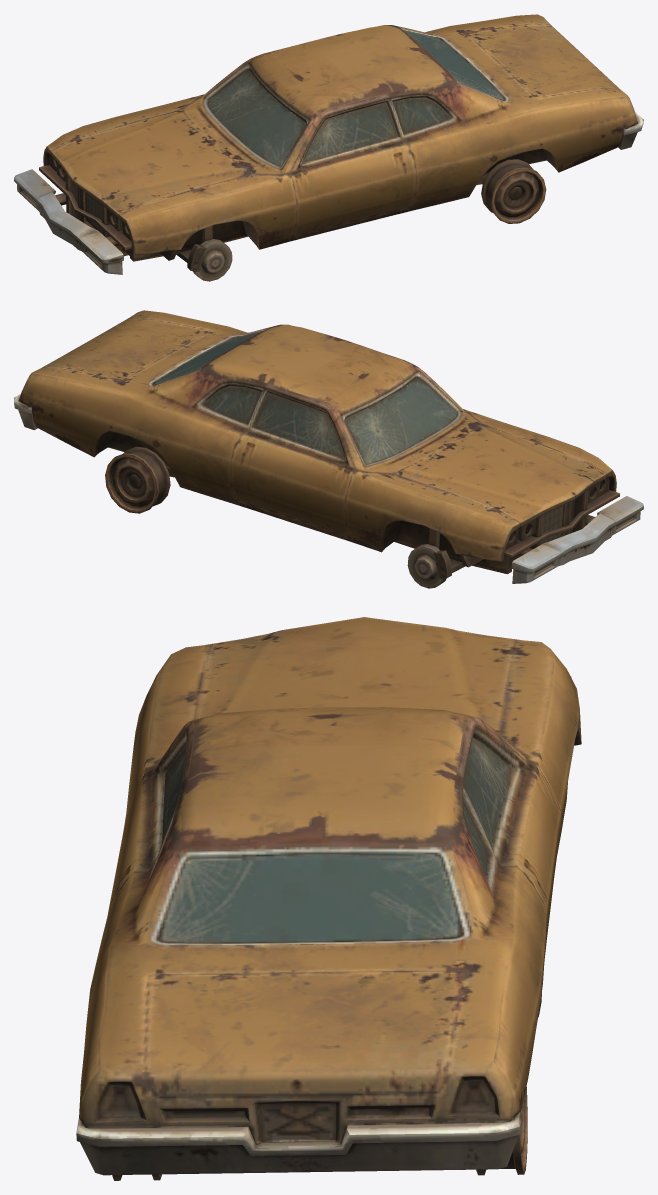
Rendered from ItemSpot.fbx.
3 views of the same model, one above another, from view 1: azimuth 30°, elevation 25°; view 2: azimuth 150°, elevation 25°; view 3: azimuth 270°, elevation 25° (orthographic). The views are drawn at different scales.
Visible parts, largest first — view 1: Common_OBJ_WreckCar_Yellow; view 2: Common_OBJ_WreckCar_Yellow; view 3: Common_OBJ_WreckCar_Yellow.
Part boxes in pixels (box(x1,y1,x2,y2)): Common_OBJ_WreckCar_Yellow: box(14, 14, 643, 281); Common_OBJ_WreckCar_Yellow: box(14, 310, 643, 588); Common_OBJ_WreckCar_Yellow: box(76, 617, 581, 1180).
Size of the model in its own units: 5.52 by 1.51 by 2.25.
1 material, 1 textured.
